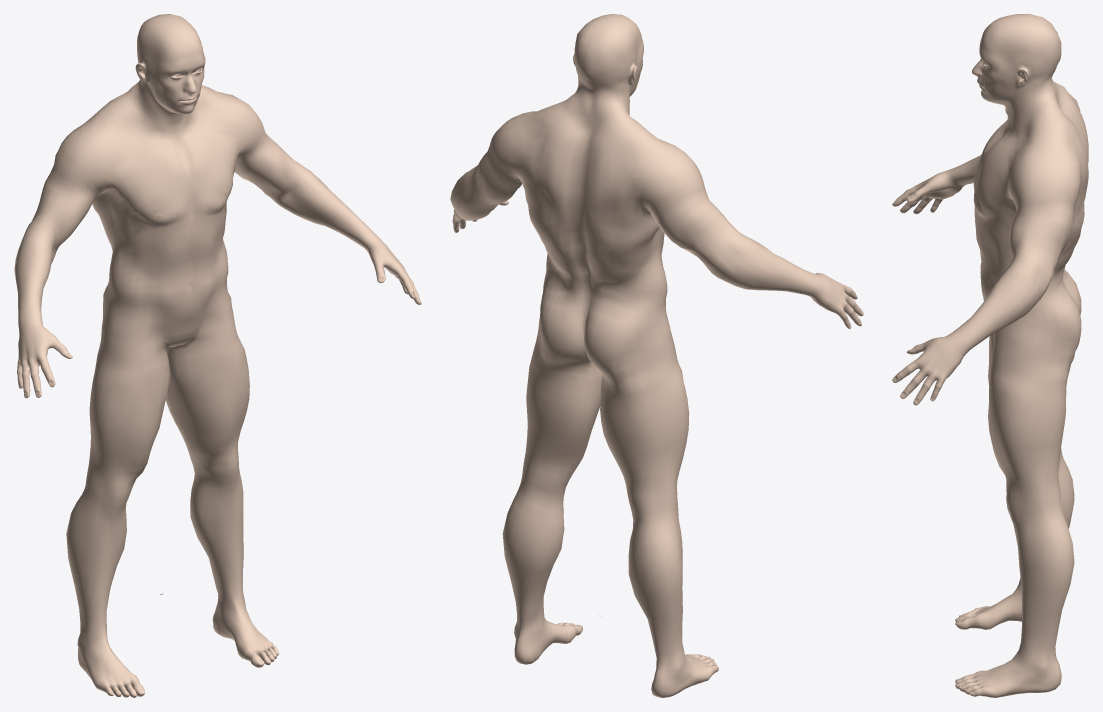
Rendered from MuscularManGltf.glb.
The picture shows the model from 3 angles, left to right: view 1: azimuth 30°, elevation 25°; view 2: azimuth 150°, elevation 25°; view 3: azimuth 270°, elevation 25°; orthographic projection.
Visible parts, largest first — view 1: muscularmanMesh; view 2: muscularmanMesh; view 3: muscularmanMesh.
Part boxes in pixels (x1,y1,x2,y2): muscularmanMesh: (14, 14, 421, 697); muscularmanMesh: (450, 14, 863, 697); muscularmanMesh: (892, 14, 1088, 697).
Size of the model in its own units: 1.12 by 1.74 by 0.4846.
2 materials, 1 textured.
